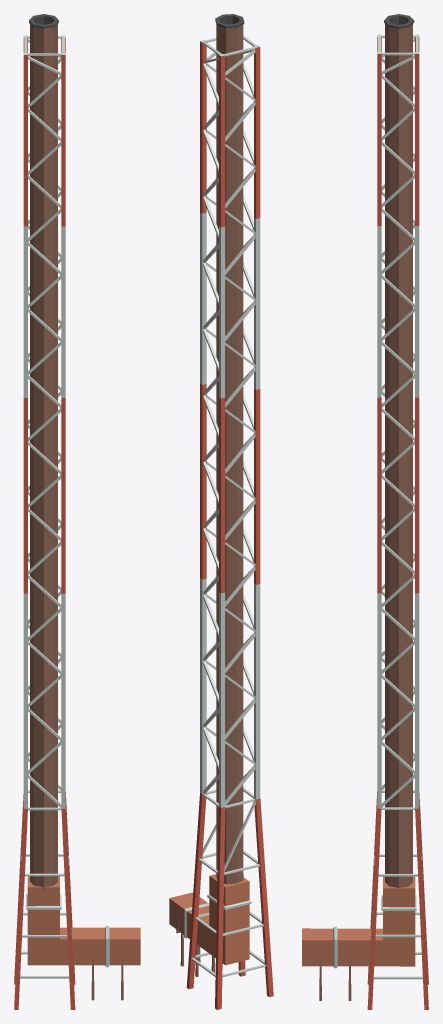
The model's file is SM_Boiler_Pipe_02.fbx.
3 renders of one model, left to right at view 1: azimuth 90°, elevation 25°; view 2: azimuth 210°, elevation 25°; view 3: azimuth 270°, elevation 25°, orthographic.
Parts seen in each view (by area): view 1: SM_Boiler_Pipe_02; view 2: SM_Boiler_Pipe_02; view 3: SM_Boiler_Pipe_02.
Boxes of the visible parts, box(x1,y1,x2,y2) form: SM_Boiler_Pipe_02: box(14, 14, 140, 1009); SM_Boiler_Pipe_02: box(169, 14, 273, 1009); SM_Boiler_Pipe_02: box(302, 14, 428, 1009).
Size of the model in its own units: 113 by 1859 by 219.
